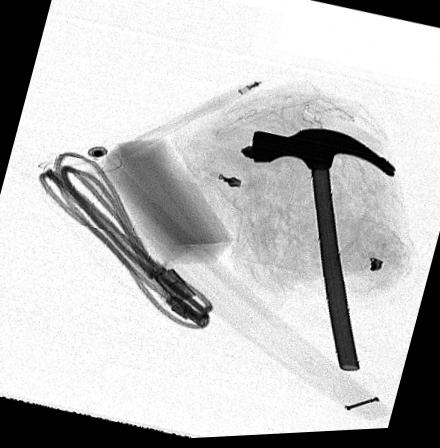Hammer: (252, 131, 397, 377)
